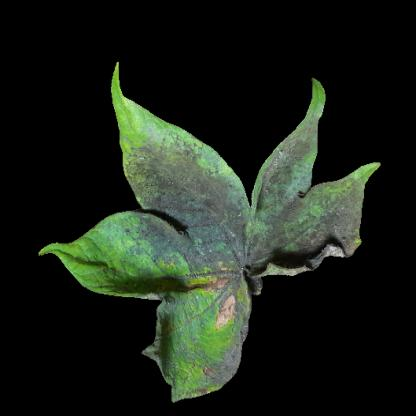curl_stage1: (72, 242, 112, 284), (169, 360, 201, 384)
sooty: (140, 149, 239, 274), (270, 187, 326, 265), (202, 264, 254, 330), (323, 187, 365, 252), (240, 204, 270, 276), (216, 329, 240, 381), (280, 143, 314, 179)
